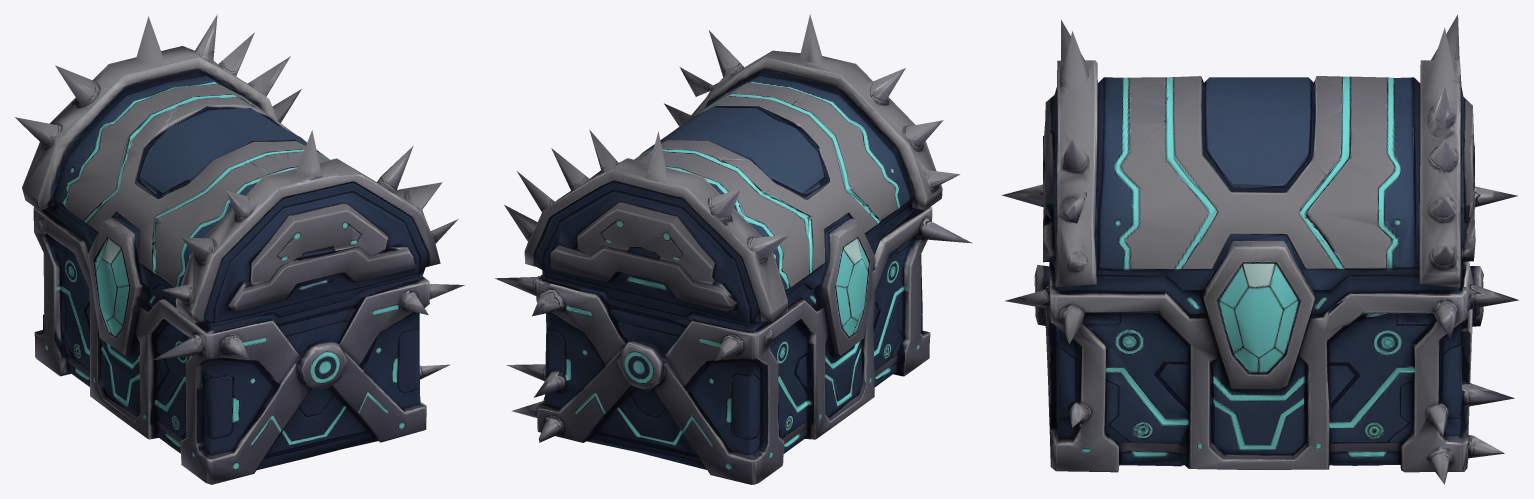
The model's file is Baul1.glb.
3 views of the same model, side by side, from view 1: azimuth 30°, elevation 25°; view 2: azimuth 150°, elevation 25°; view 3: azimuth 270°, elevation 25° (orthographic). The views are drawn at different scales.
Visible parts, largest first — view 1: tripo_node_0f83c4e4-6698-4859-bfff-6340714c6d81; view 2: tripo_node_0f83c4e4-6698-4859-bfff-6340714c6d81; view 3: tripo_node_0f83c4e4-6698-4859-bfff-6340714c6d81.
Part boxes in pixels (x1,y1,x2,y2): tripo_node_0f83c4e4-6698-4859-bfff-6340714c6d81: (14, 14, 464, 484); tripo_node_0f83c4e4-6698-4859-bfff-6340714c6d81: (495, 14, 972, 484); tripo_node_0f83c4e4-6698-4859-bfff-6340714c6d81: (1002, 14, 1518, 484).
Size of the model in its own units: 0.8187 by 0.8032 by 0.9816.
1 material, 1 textured.
